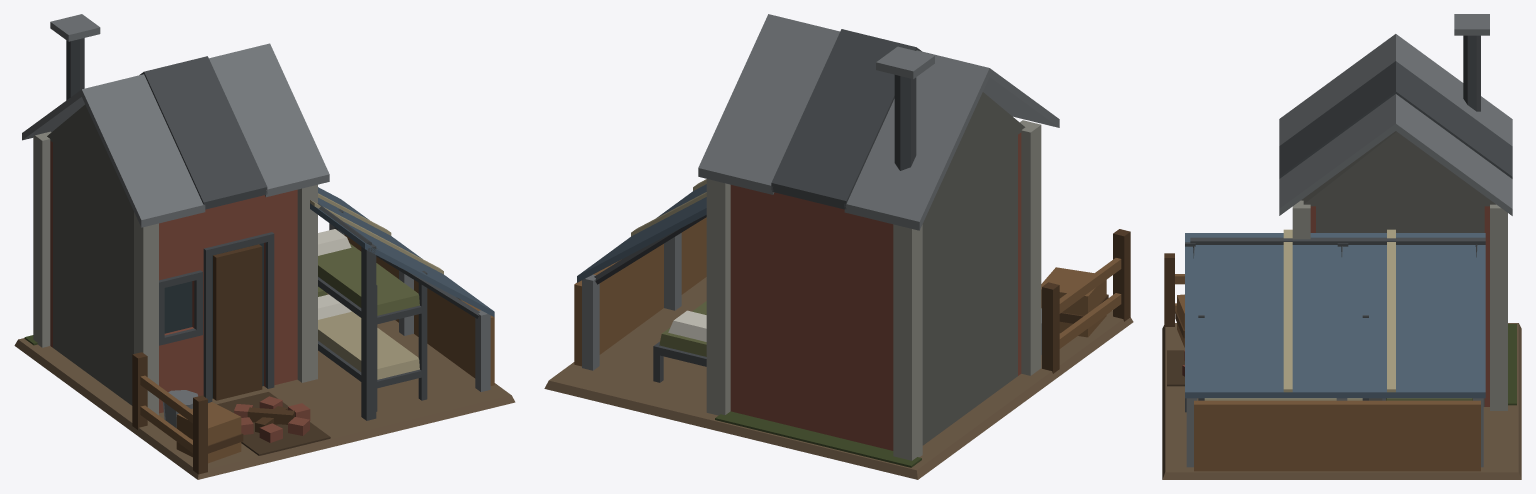
File: shelter_l2.glb
The picture shows the model from 3 angles, left to right: view 1: azimuth 30°, elevation 25°; view 2: azimuth 150°, elevation 25°; view 3: azimuth 270°, elevation 25°; orthographic projection. The views are drawn at different scales.
Parts seen in each view (by area): view 1: shelter_structure, shelter_roof, shelter_props; view 2: shelter_structure, shelter_roof, shelter_props; view 3: shelter_roof, shelter_structure, shelter_props.
Part boxes in pixels (x1,y1,x2,y2): shelter_structure: (14, 104, 515, 479); shelter_roof: (22, 43, 494, 317); shelter_props: (50, 14, 427, 474); shelter_structure: (544, 92, 1133, 479); shelter_roof: (577, 14, 1059, 282); shelter_props: (653, 46, 1130, 382); shelter_roof: (1185, 34, 1512, 398); shelter_structure: (1162, 131, 1521, 479); shelter_props: (1164, 14, 1489, 400).
Size of the model in its own units: 4 by 3.98 by 4.
